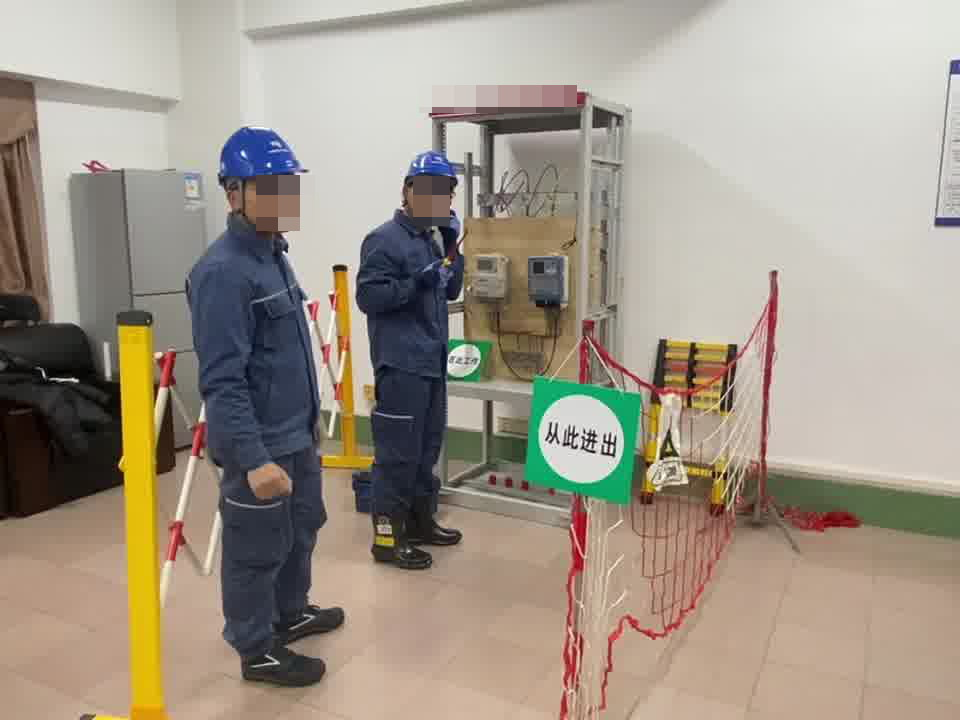downsuit: (217, 465, 326, 653), (370, 380, 447, 521)
halt: (217, 125, 307, 231), (402, 150, 462, 216)
hand: (248, 458, 295, 499)
inear: (218, 178, 249, 220)
intosign: (519, 373, 643, 517)
person: (182, 125, 338, 688), (351, 147, 471, 563)
shoe: (367, 509, 436, 568), (407, 501, 463, 548)
upsuit: (189, 234, 322, 445), (361, 209, 464, 372)
wglove: (417, 257, 455, 295), (437, 211, 461, 250)
worksign: (441, 331, 492, 386)
